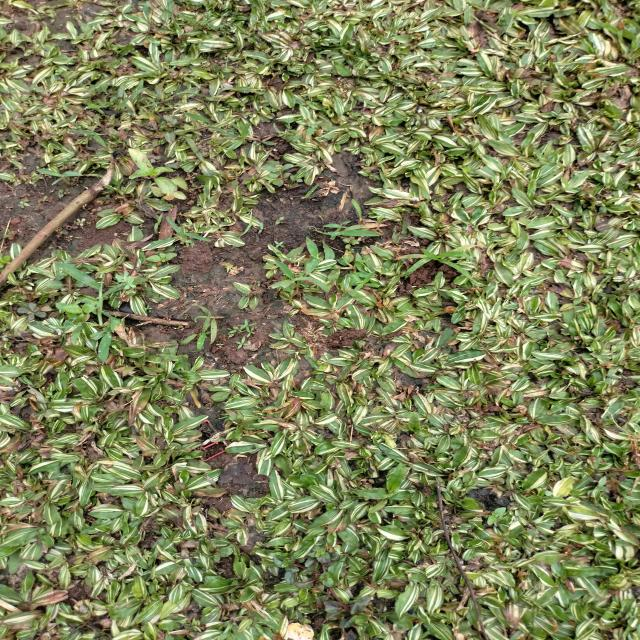bayi: (240, 319, 259, 333), (227, 324, 242, 339), (235, 338, 250, 348), (274, 240, 286, 249), (213, 341, 227, 347)
buah daun: (123, 543, 155, 562)
lumut besar: (174, 11, 234, 38)
rambat atas: (50, 260, 115, 367), (394, 247, 478, 281), (298, 242, 365, 274), (188, 303, 226, 352), (163, 214, 213, 251), (318, 221, 390, 242), (30, 165, 84, 189), (116, 80, 150, 110), (183, 112, 227, 134), (220, 123, 252, 150), (135, 79, 158, 111), (68, 129, 108, 145), (160, 91, 203, 102), (238, 210, 254, 238), (299, 182, 320, 200), (351, 198, 363, 222), (154, 212, 164, 234)
tunggang besar: (485, 504, 510, 528)
tunggang tengah: (263, 162, 308, 190)
ungu tunggang: (268, 546, 376, 632)
